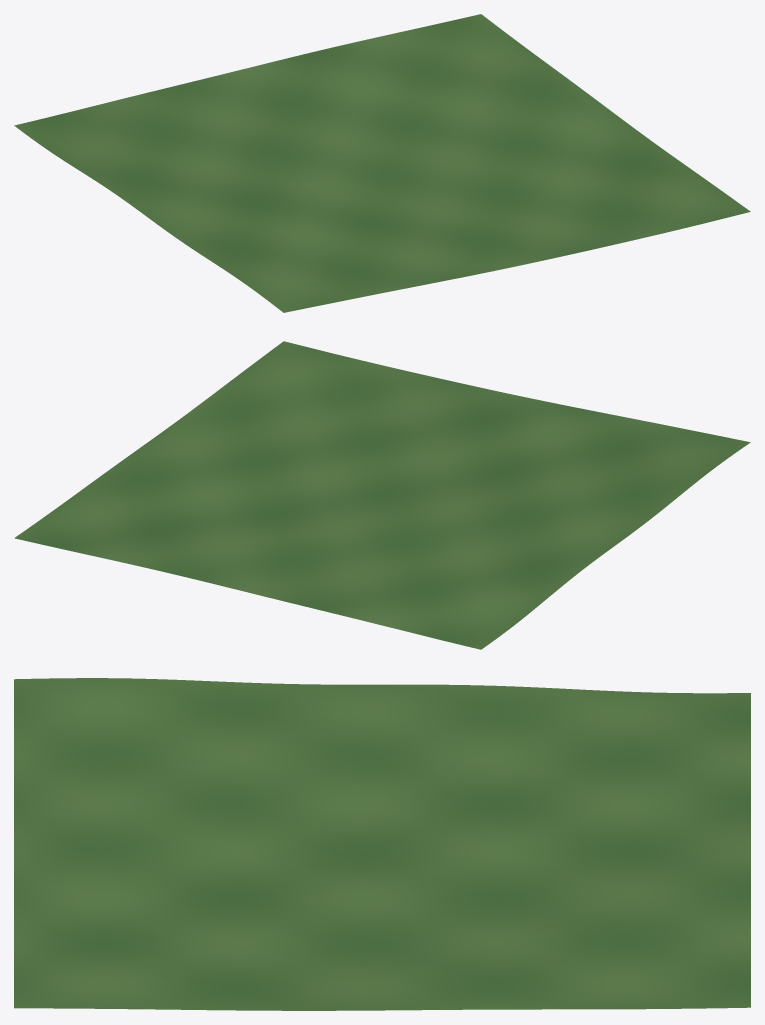
Rendered from chunk_10_8.glb.
3 renders of one model, top to bottom at view 1: azimuth 30°, elevation 25°; view 2: azimuth 150°, elevation 25°; view 3: azimuth 270°, elevation 25°, orthographic. The views are drawn at different scales.
Size of the model in its own units: 512 by 17.97 by 512.
